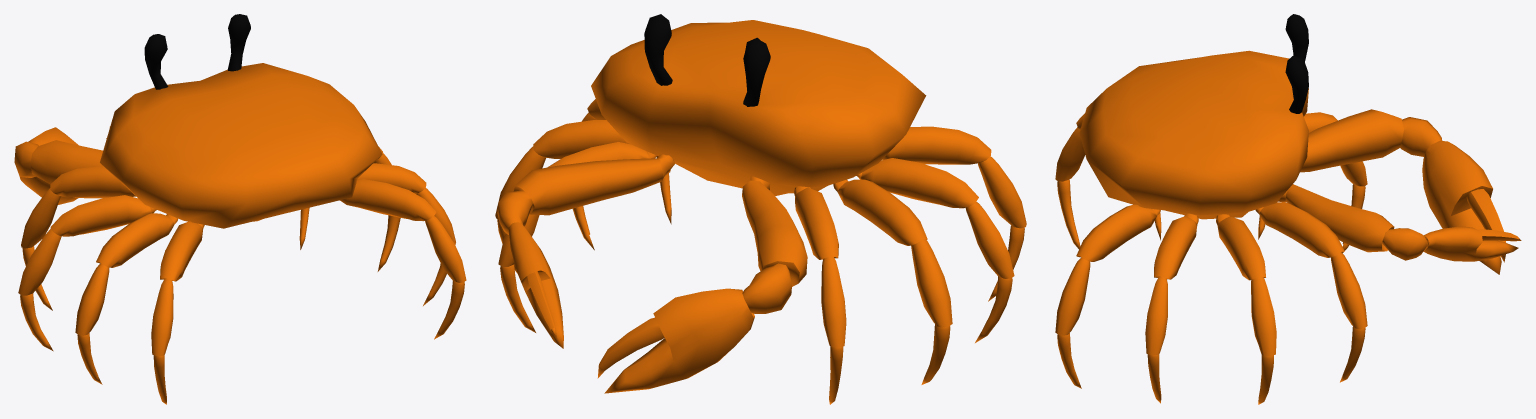
File: crab.glb
The picture shows the model from 3 angles, left to right: view 1: azimuth 30°, elevation 25°; view 2: azimuth 150°, elevation 25°; view 3: azimuth 270°, elevation 25°; orthographic projection. The views are drawn at different scales.
Visible parts, largest first — view 1: defaultMaterial_0, defaultMaterial_3, defaultMaterial_4, defaultMaterial_5, defaultMaterial_2, defaultMaterial_1, defaultMaterial; view 2: defaultMaterial_0, defaultMaterial_3, defaultMaterial, defaultMaterial_2, defaultMaterial_4, defaultMaterial_5, defaultMaterial_1; view 3: defaultMaterial_0, defaultMaterial_2, defaultMaterial_3, defaultMaterial, defaultMaterial_4, defaultMaterial_5, defaultMaterial_1.
Boxes of the visible parts, x1,y1,x2,y2 form: defaultMaterial_0: (100,63,382,228); defaultMaterial_3: (50,146,436,281); defaultMaterial_4: (18,152,466,355); defaultMaterial_5: (20,207,464,404); defaultMaterial_2: (14,140,103,184); defaultMaterial_1: (144,14,250,89); defaultMaterial: (20,126,110,204); defaultMaterial_0: (591,20,926,195); defaultMaterial_3: (533,99,991,259); defaultMaterial: (508,222,754,393); defaultMaterial_2: (497,154,807,313); defaultMaterial_4: (495,112,1026,347); defaultMaterial_5: (497,156,1024,404); defaultMaterial_1: (644,14,770,106); defaultMaterial_0: (1079,50,1308,219); defaultMaterial_2: (1278,109,1442,260); defaultMaterial_3: (1076,112,1344,280); defaultMaterial: (1422,140,1521,274); defaultMaterial_4: (1055,127,1367,356); defaultMaterial_5: (1057,179,1365,404); defaultMaterial_1: (1285,14,1308,113).
Size of the model in its own units: 1.98 by 1.36 by 2.
